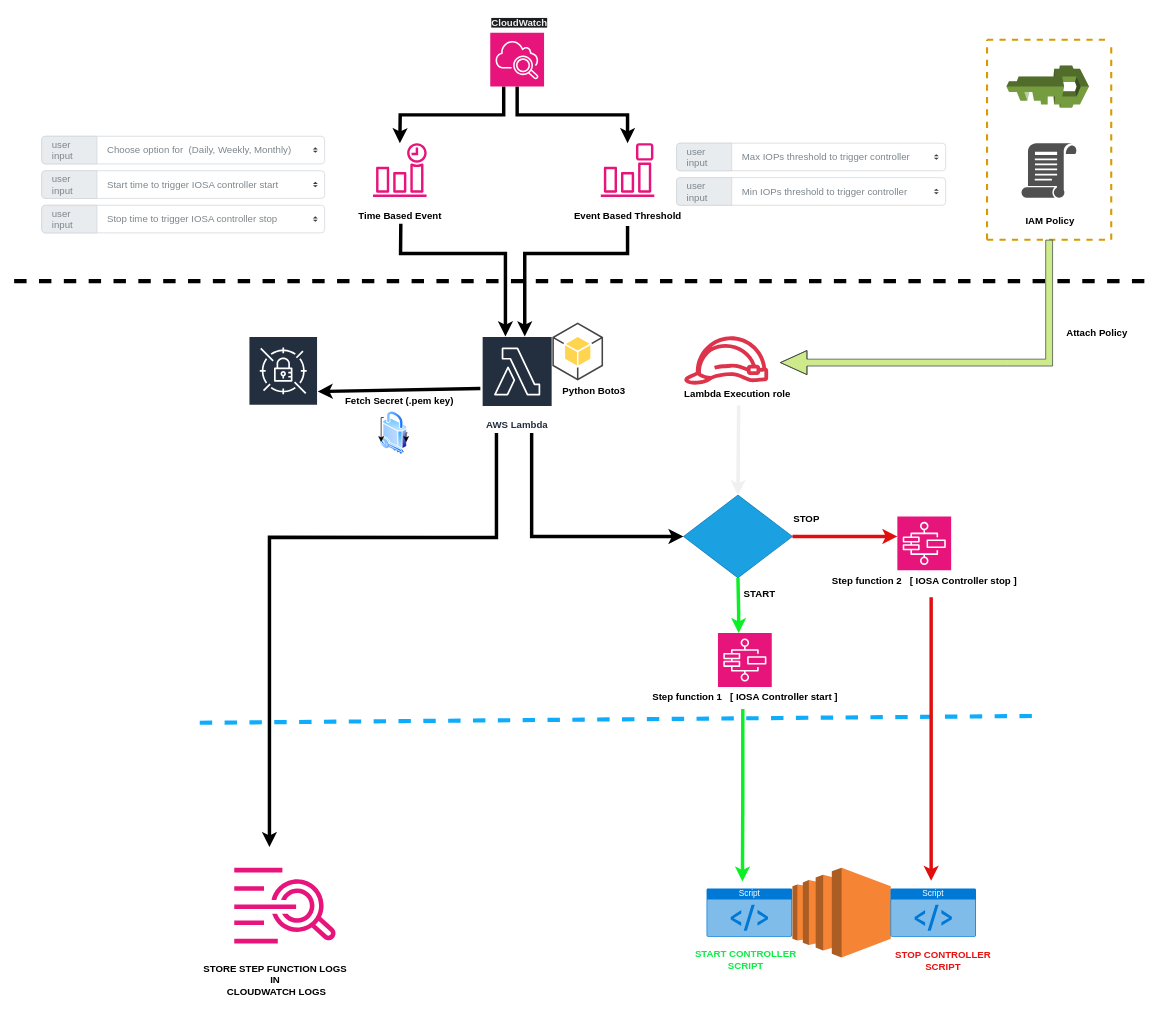
Some shapes in this 1167 by 1012 pixel diagram are drawn without their labels. The box of each missing label's shape, as (x1, y1, x2, y2) in pixels:
AWS Secrets Manager: (248, 336, 318, 433)
Based on Cloudwatch events: (683, 494, 792, 578)
IAM: (1006, 65, 1089, 108)
